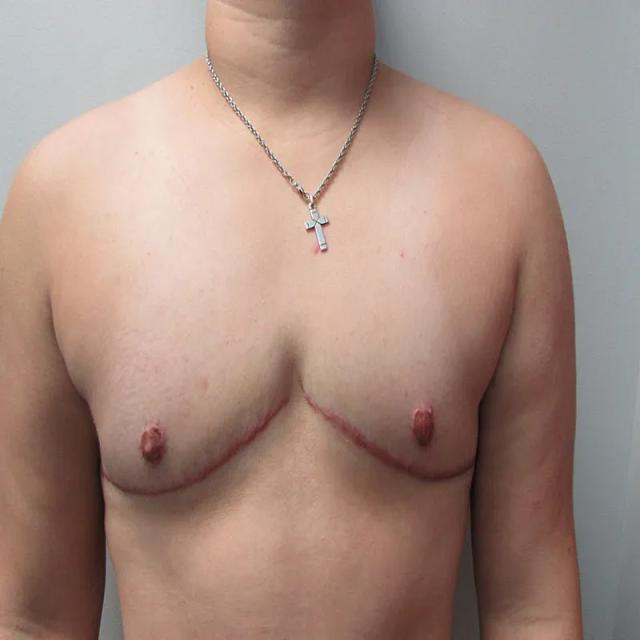Seno herido: (81, 291, 294, 524), (296, 290, 506, 509)
